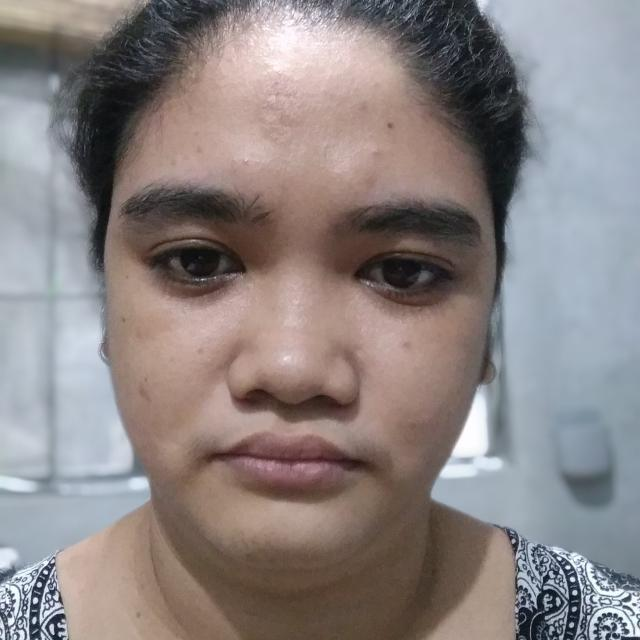Acne: (134, 381, 156, 406), (369, 144, 385, 162), (191, 342, 208, 358), (398, 336, 416, 351), (240, 153, 252, 170), (408, 420, 422, 434)
Eyebags: (357, 285, 457, 324), (150, 280, 256, 314)
Wrinkles: (193, 374, 223, 413)
